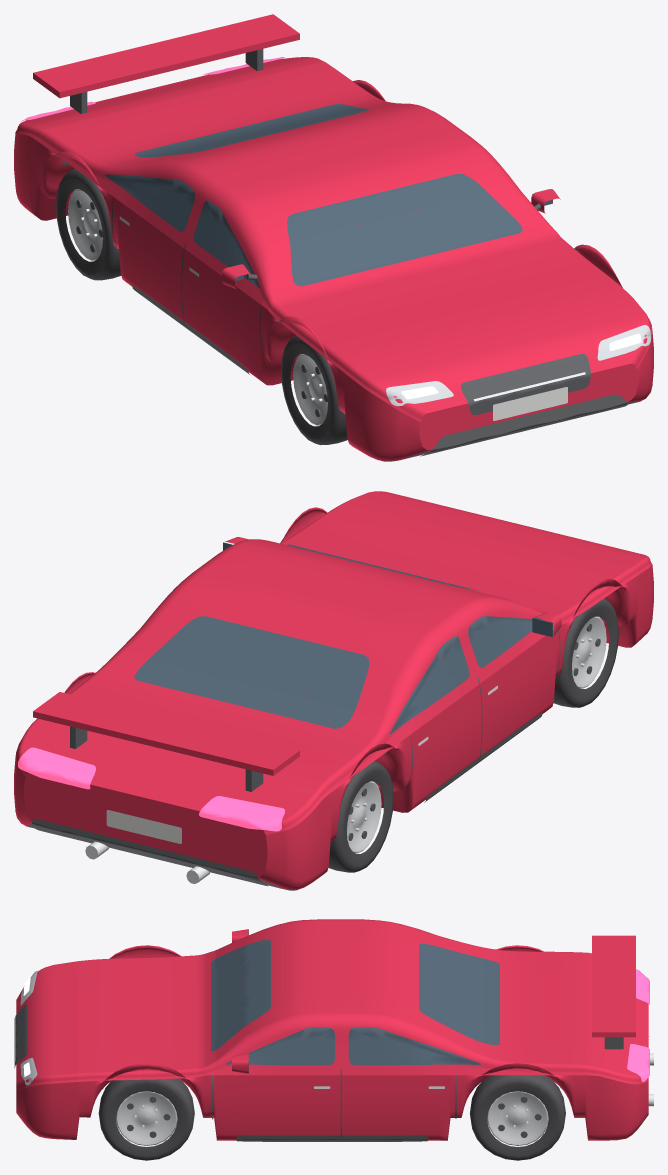
Rendered from car-supercar.glb.
3 renders of one model, top to bottom at view 1: azimuth 30°, elevation 25°; view 2: azimuth 150°, elevation 25°; view 3: azimuth 270°, elevation 25°, orthographic. The views are drawn at different scales.
Visible parts, largest first — view 1: car-supercar; view 2: car-supercar; view 3: car-supercar.
Part boxes in pixels (<box>): car-supercar: <box>14,14,653,461</box>; car-supercar: <box>14,491,653,890</box>; car-supercar: <box>14,919,653,1160</box>.
Size of the model in its own units: 2.3 by 1.12 by 4.66.
